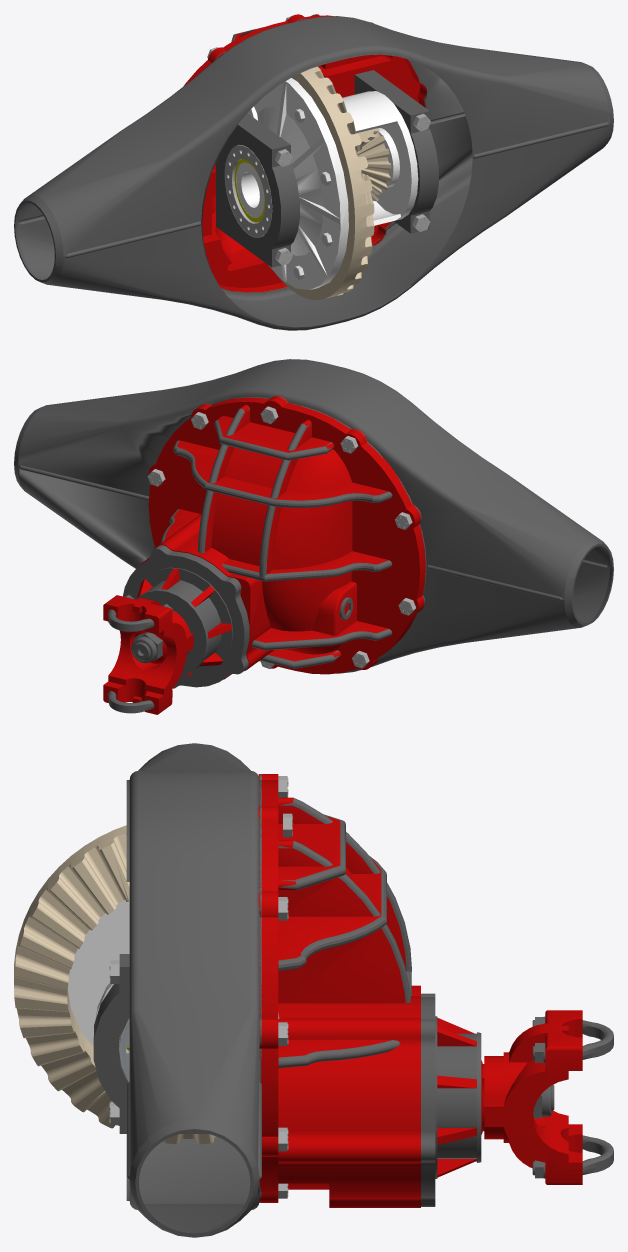
File: Scene satu.fbx
3 renders of one model, top to bottom at view 1: azimuth 30°, elevation 25°; view 2: azimuth 150°, elevation 25°; view 3: azimuth 270°, elevation 25°, orthographic. The views are drawn at different scales.
Parts seen in each view (by area): view 1: 7.001, 1, 3; view 2: 7.001; view 3: 7.001, 1.
Part boxes in pixels (x1,y1,x2,y2): 7.001: [14, 14, 613, 330]; 1: [234, 66, 418, 299]; 3: [357, 128, 391, 194]; 7.001: [14, 359, 613, 714]; 7.001: [93, 743, 613, 1237]; 1: [14, 825, 279, 1144].
Bounding box in the file's own units: 85.26 × 39.74 × 56.2.
